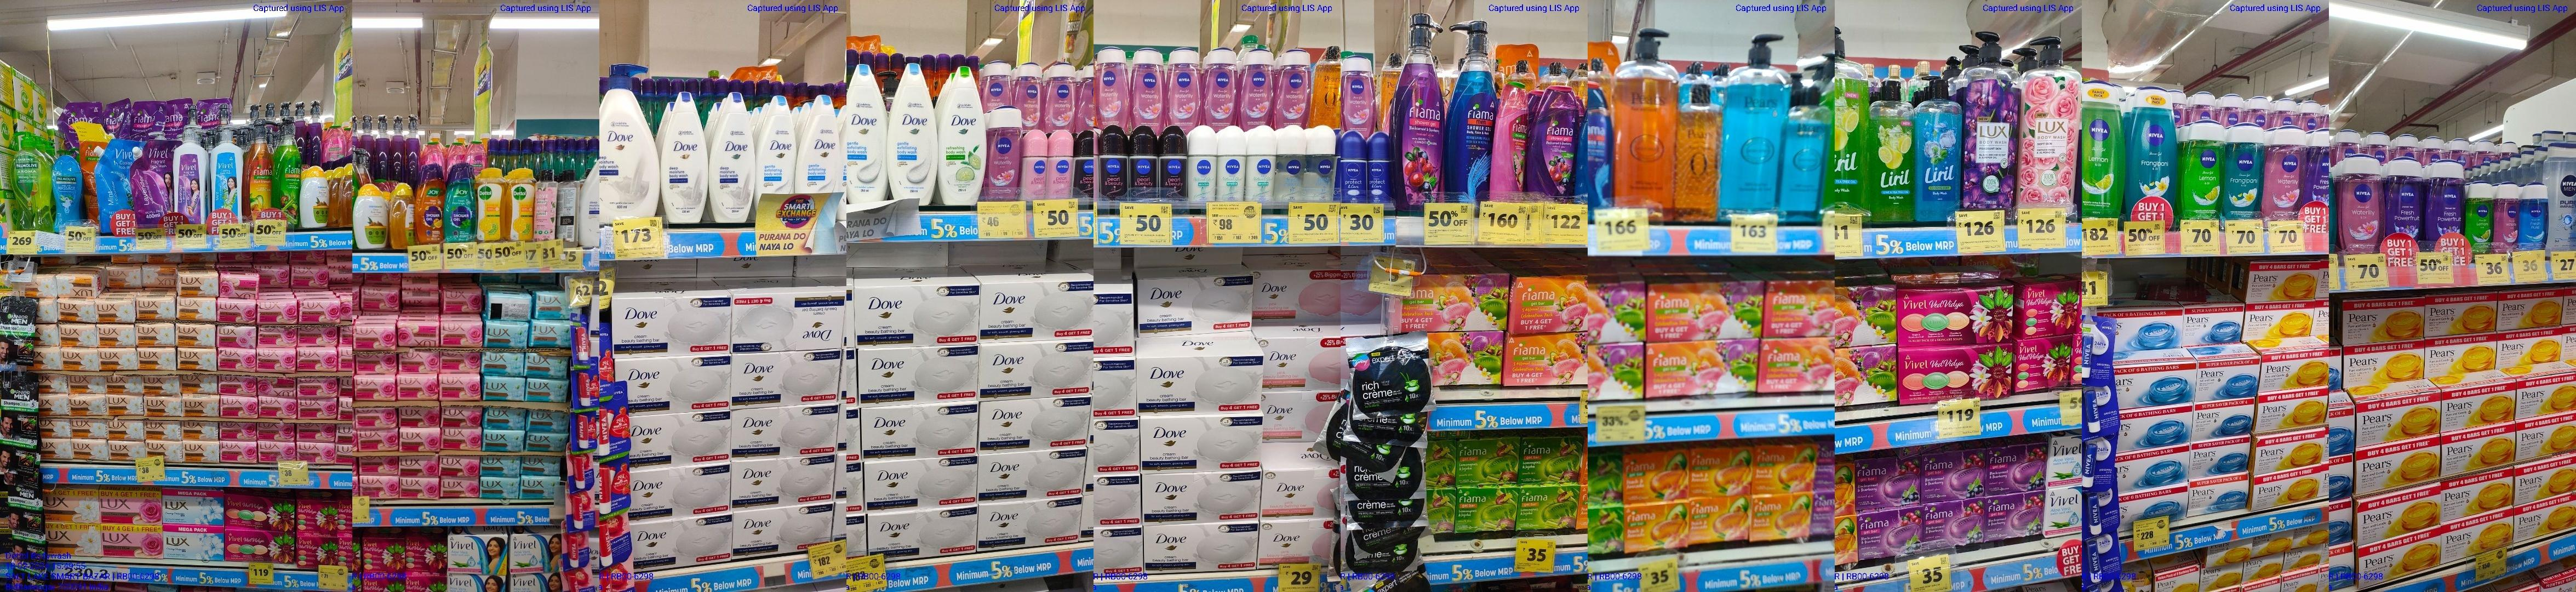Dettol_Bodywash_Refresh: (506, 168, 534, 242), (478, 168, 503, 242)
Dove_Deep_Moisture_Body_Wash_250ML: (660, 92, 708, 224), (710, 92, 756, 225)
Dove_Gentle_Exfoliating_Body_Wash_250ML: (892, 64, 935, 209), (846, 66, 890, 204), (757, 94, 797, 196), (798, 95, 839, 192)
Dove_Refreshing_Body_Wash_250ML: (936, 66, 986, 206)
Joy_Shower_Gel_Mandarin_and_Lemongrass_250ML: (416, 164, 444, 243)
Joy_Shower_Gel_Mint_and_Eucalyptus_250ML: (445, 166, 475, 242)
Liril_Cooling_Mint_Body_Wash_250ML: (1919, 76, 1962, 225)
Liril_Lime_and_Tea_Tree_Oil_Body_Wash_250ML: (1871, 76, 1914, 224)
Nivea_Shower_Gel_Frangipani_and_Oil_250ML: (2124, 84, 2182, 201), (2226, 127, 2261, 217)
Nivea_Shower_Gel_Lemon_and_Oil_250ML: (2080, 79, 2123, 219), (2187, 125, 2221, 217)
Nivea_Shower_Gel_Waterlily_and_Oil_250ML: (2338, 151, 2384, 255), (2264, 125, 2303, 220), (1096, 48, 1132, 128), (1275, 49, 1309, 130), (1341, 54, 1372, 138), (1203, 49, 1235, 128), (1240, 53, 1272, 132), (1134, 48, 1163, 130), (1168, 49, 1199, 125)
Palmolive_Aroma_Moments_Feel_The_Massage_Shower_Gel_250ML: (53, 155, 80, 227)
Pears_Pure_Glycerin_and_Mint_Extracts_Body_Wash_250ML: (1786, 89, 1820, 225)
